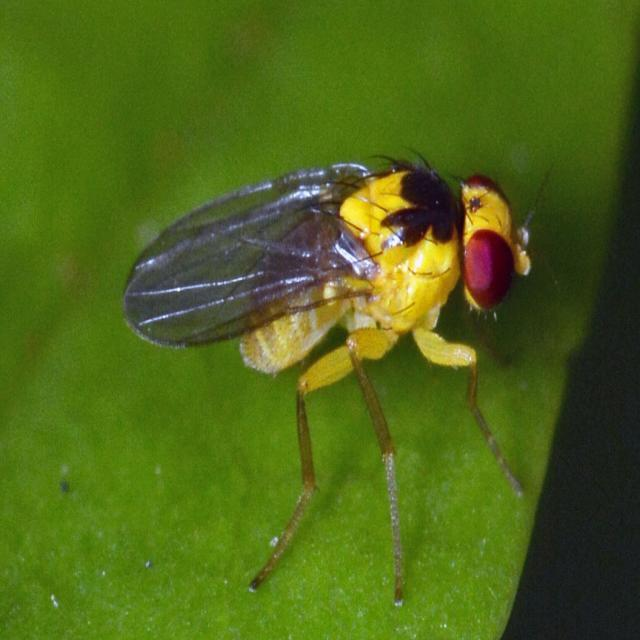Serpentine leafminer: (116, 149, 568, 622)
